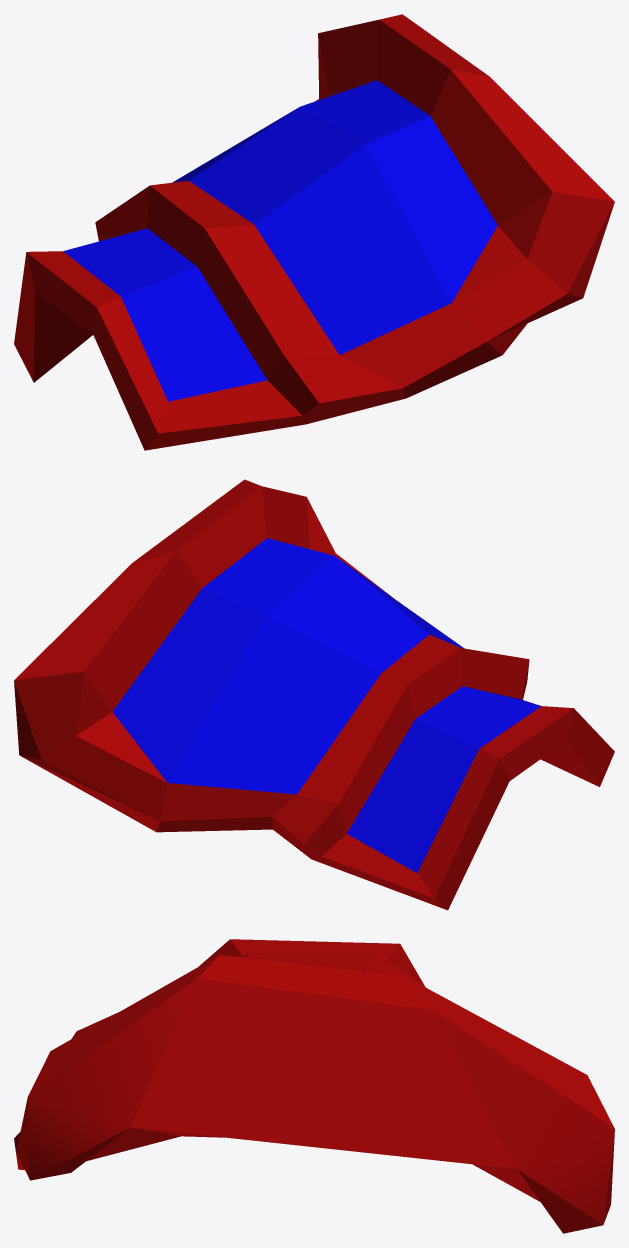
The model's file is Chr_ShoulderAttachRight_Static_15.fbx.
The picture shows the model from 3 angles, top to bottom: view 1: azimuth 30°, elevation 25°; view 2: azimuth 150°, elevation 25°; view 3: azimuth 270°, elevation 25°; orthographic projection. The views are drawn at different scales.
Parts seen in each view (by area): view 1: Chr_ShoulderAttachRight_15; view 2: Chr_ShoulderAttachRight_15; view 3: Chr_ShoulderAttachRight_15.
Boxes of the visible parts, left/top/right/bottom form: Chr_ShoulderAttachRight_15: left=14, top=14, right=614, bottom=450; Chr_ShoulderAttachRight_15: left=14, top=479, right=614, bottom=910; Chr_ShoulderAttachRight_15: left=14, top=939, right=614, bottom=1233.
Bounding box in the file's own units: 27.44 × 18.11 × 28.
